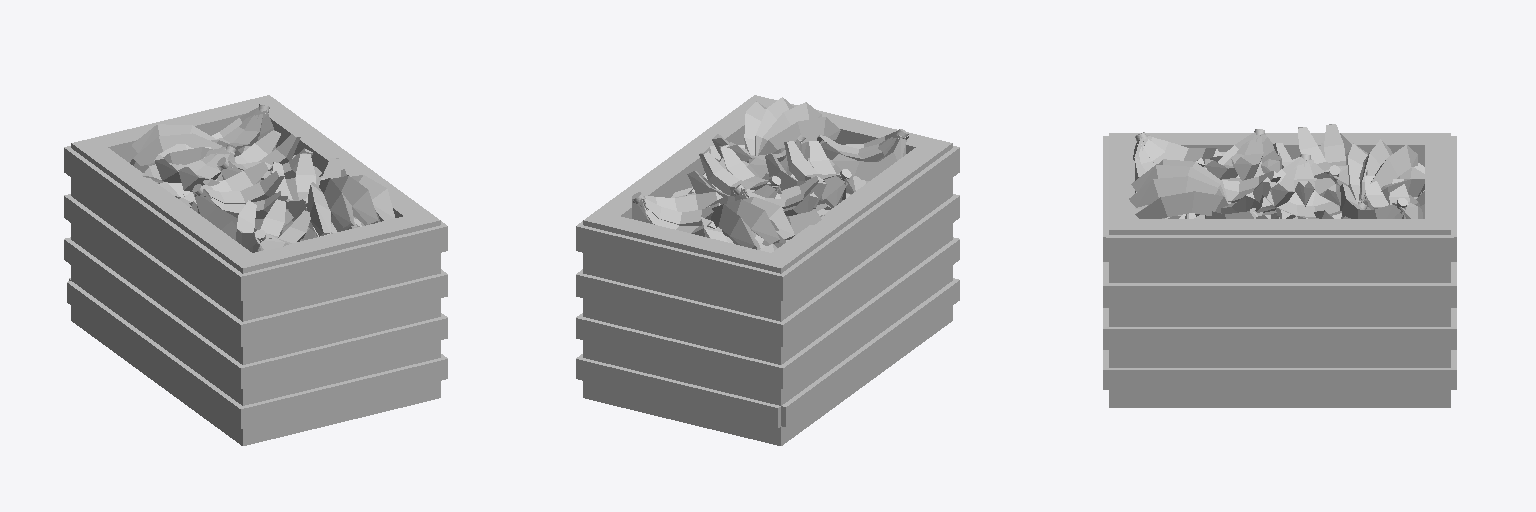
Rendered from BananaCrate.obj.
The picture shows the model from 3 angles: view 1: azimuth 30°, elevation 25°; view 2: azimuth 150°, elevation 25°; view 3: azimuth 270°, elevation 25°; orthographic projection.
Size of the model in its own units: 4.2 by 4.01 by 6.2.